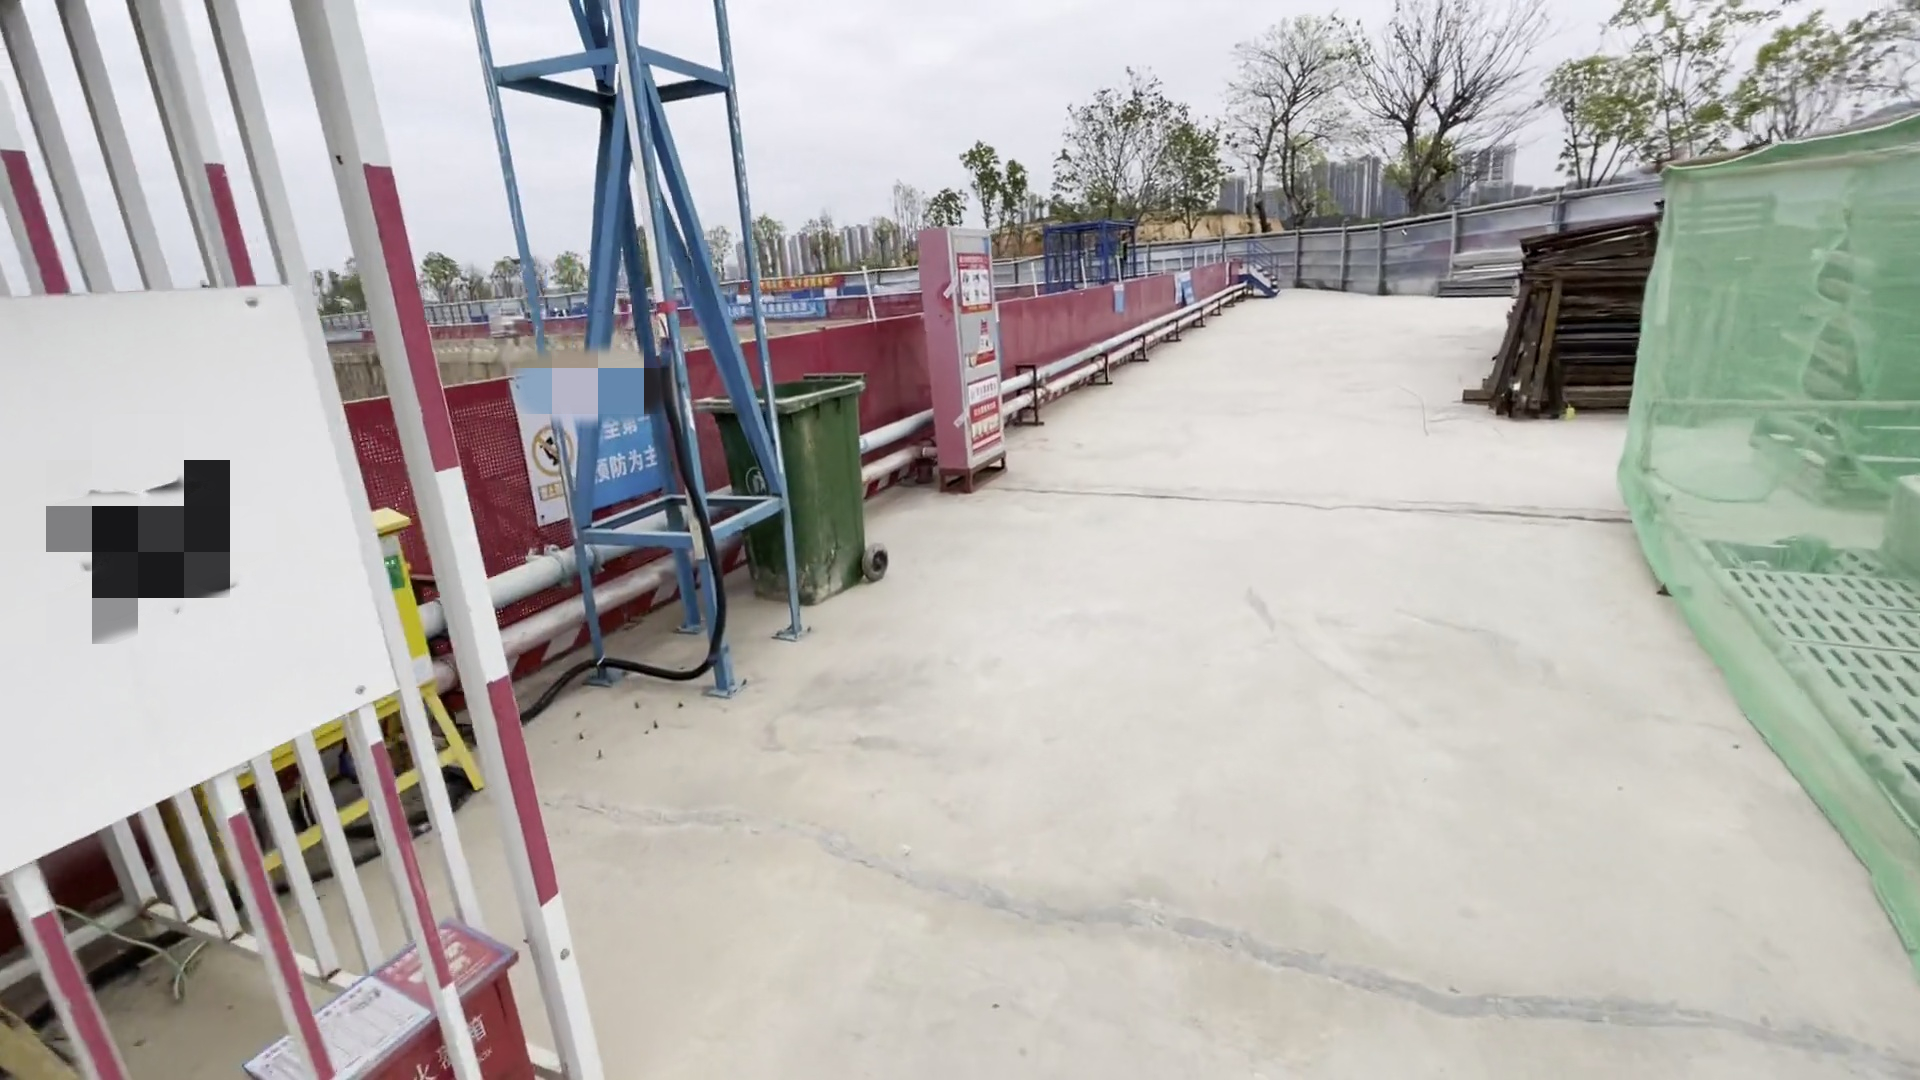fence: (417, 258, 1238, 647)
slogan: (551, 407, 699, 481)
